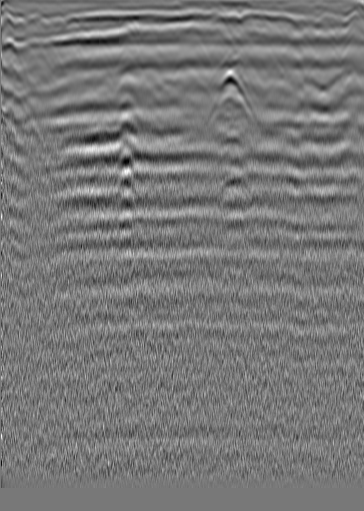가스: (217, 173, 258, 209)
상수: (300, 10, 320, 30)
오수: (2, 34, 22, 54)
우수: (124, 18, 144, 38)
